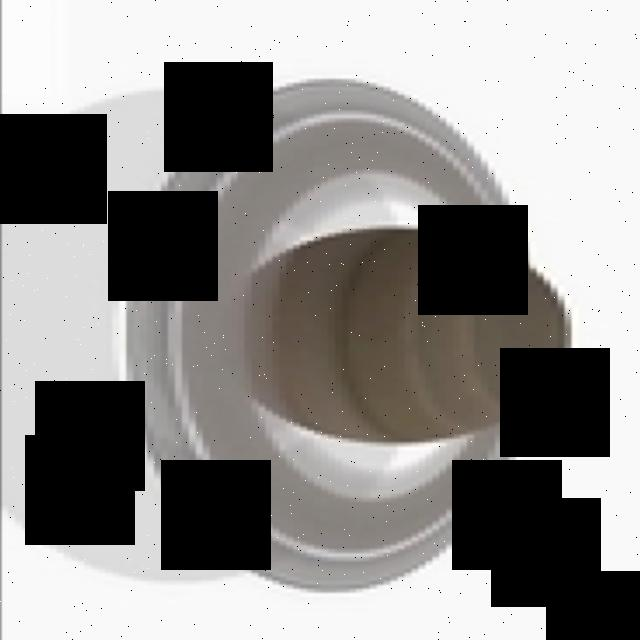Saturn: (129, 77, 573, 593)
